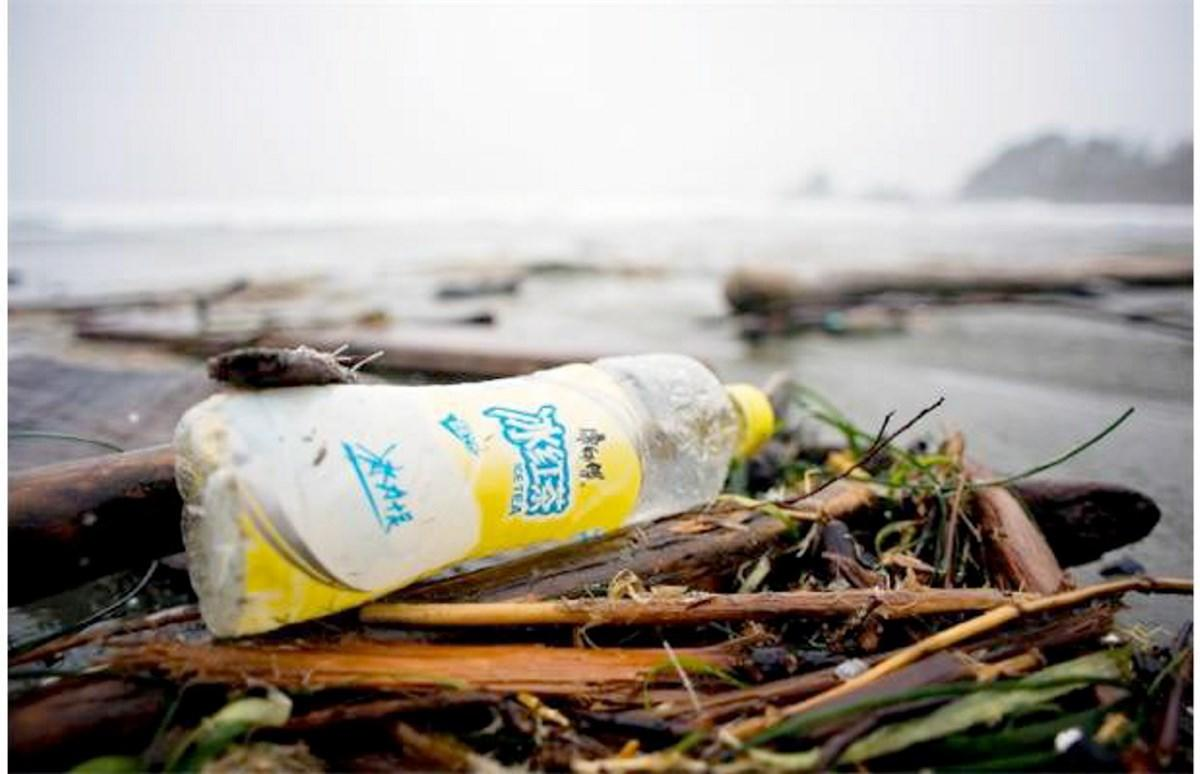Plastic: (166, 342, 785, 623)
